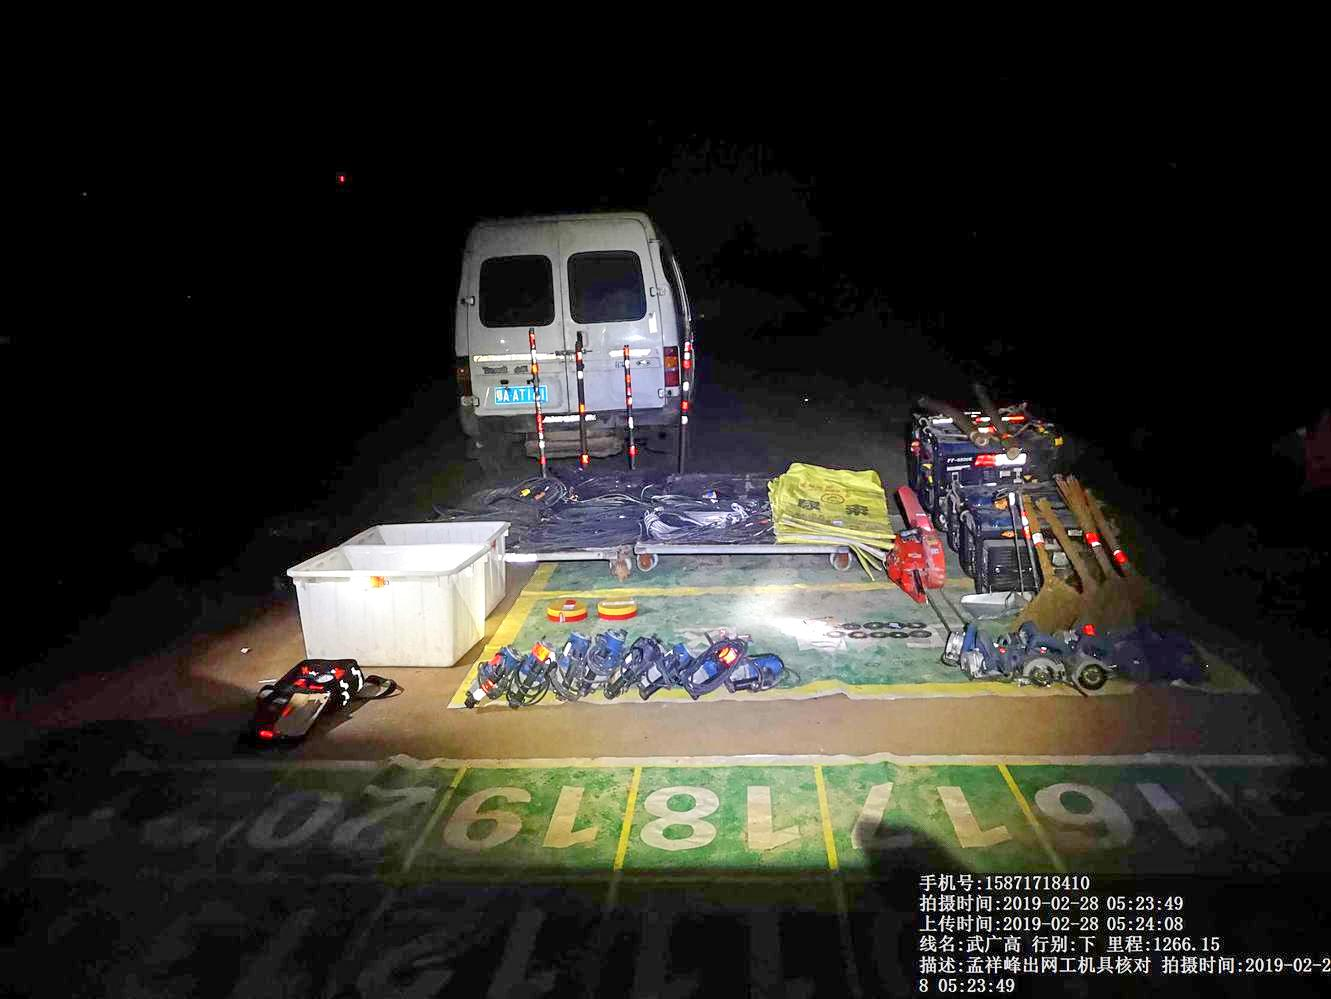BZD: (767, 458, 894, 579)
DJ: (906, 405, 1083, 487)
GFJ: (890, 490, 957, 608)
GJB: (237, 663, 372, 747)
JC: (591, 594, 641, 622), (542, 598, 591, 626)
SB: (1011, 492, 1077, 638)
T: (281, 548, 494, 667)
